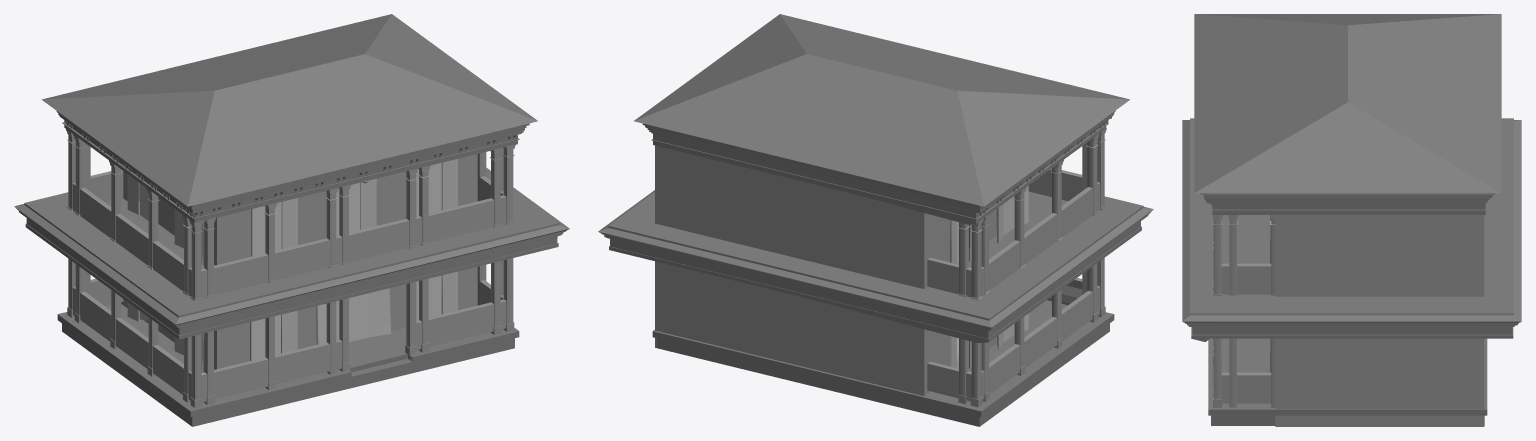
The model's file is Home_M_01.FBX.
The picture shows the model from 3 angles, left to right: view 1: azimuth 30°, elevation 25°; view 2: azimuth 150°, elevation 25°; view 3: azimuth 270°, elevation 25°; orthographic projection. The views are drawn at different scales.
Visible parts, largest first — view 1: Box001; view 2: Box001; view 3: Box001.
Part boxes in pixels (left/top/right/bottom): Box001: left=14, top=14, right=569, bottom=426; Box001: left=598, top=14, right=1153, bottom=426; Box001: left=1182, top=14, right=1521, bottom=426.
Size of the model in its own units: 49.1 by 34.94 by 31.82.
1 material, 1 textured.
